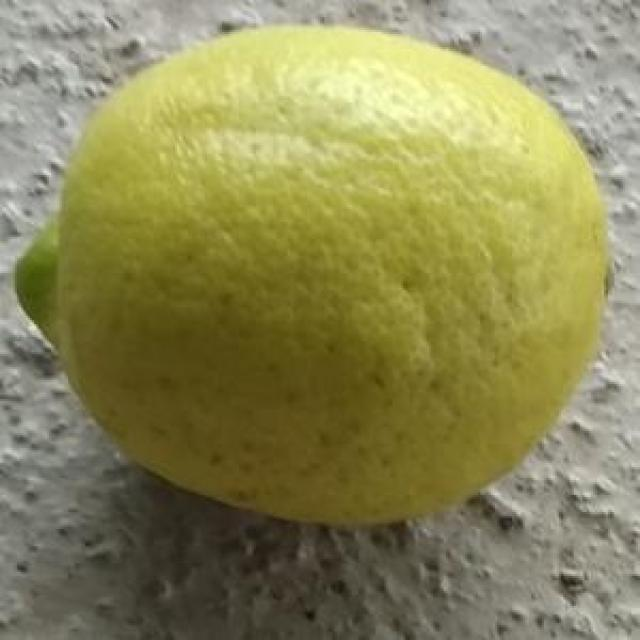lemon: (14, 19, 614, 524)
